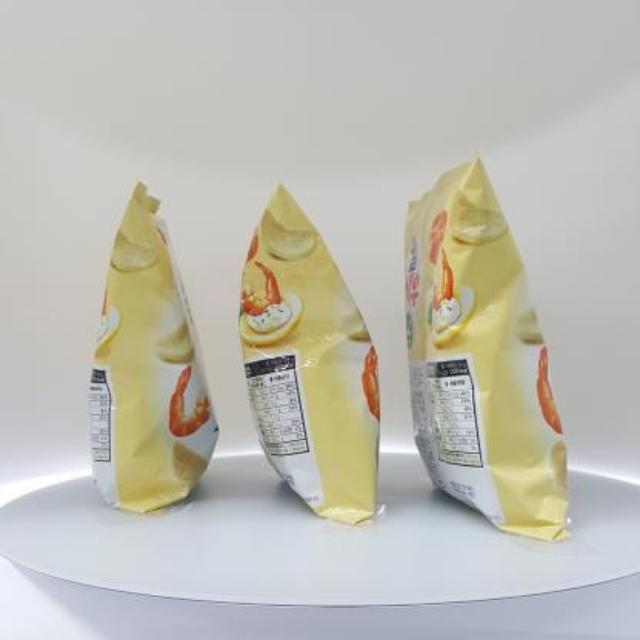snack_bag: (71, 136, 594, 552)
